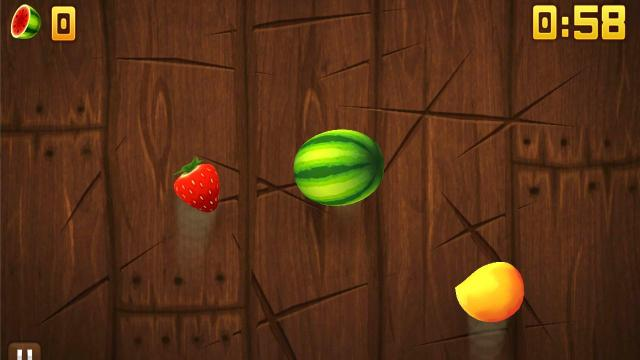fruit: (288, 125, 388, 209), (452, 258, 528, 326), (172, 156, 224, 214)
